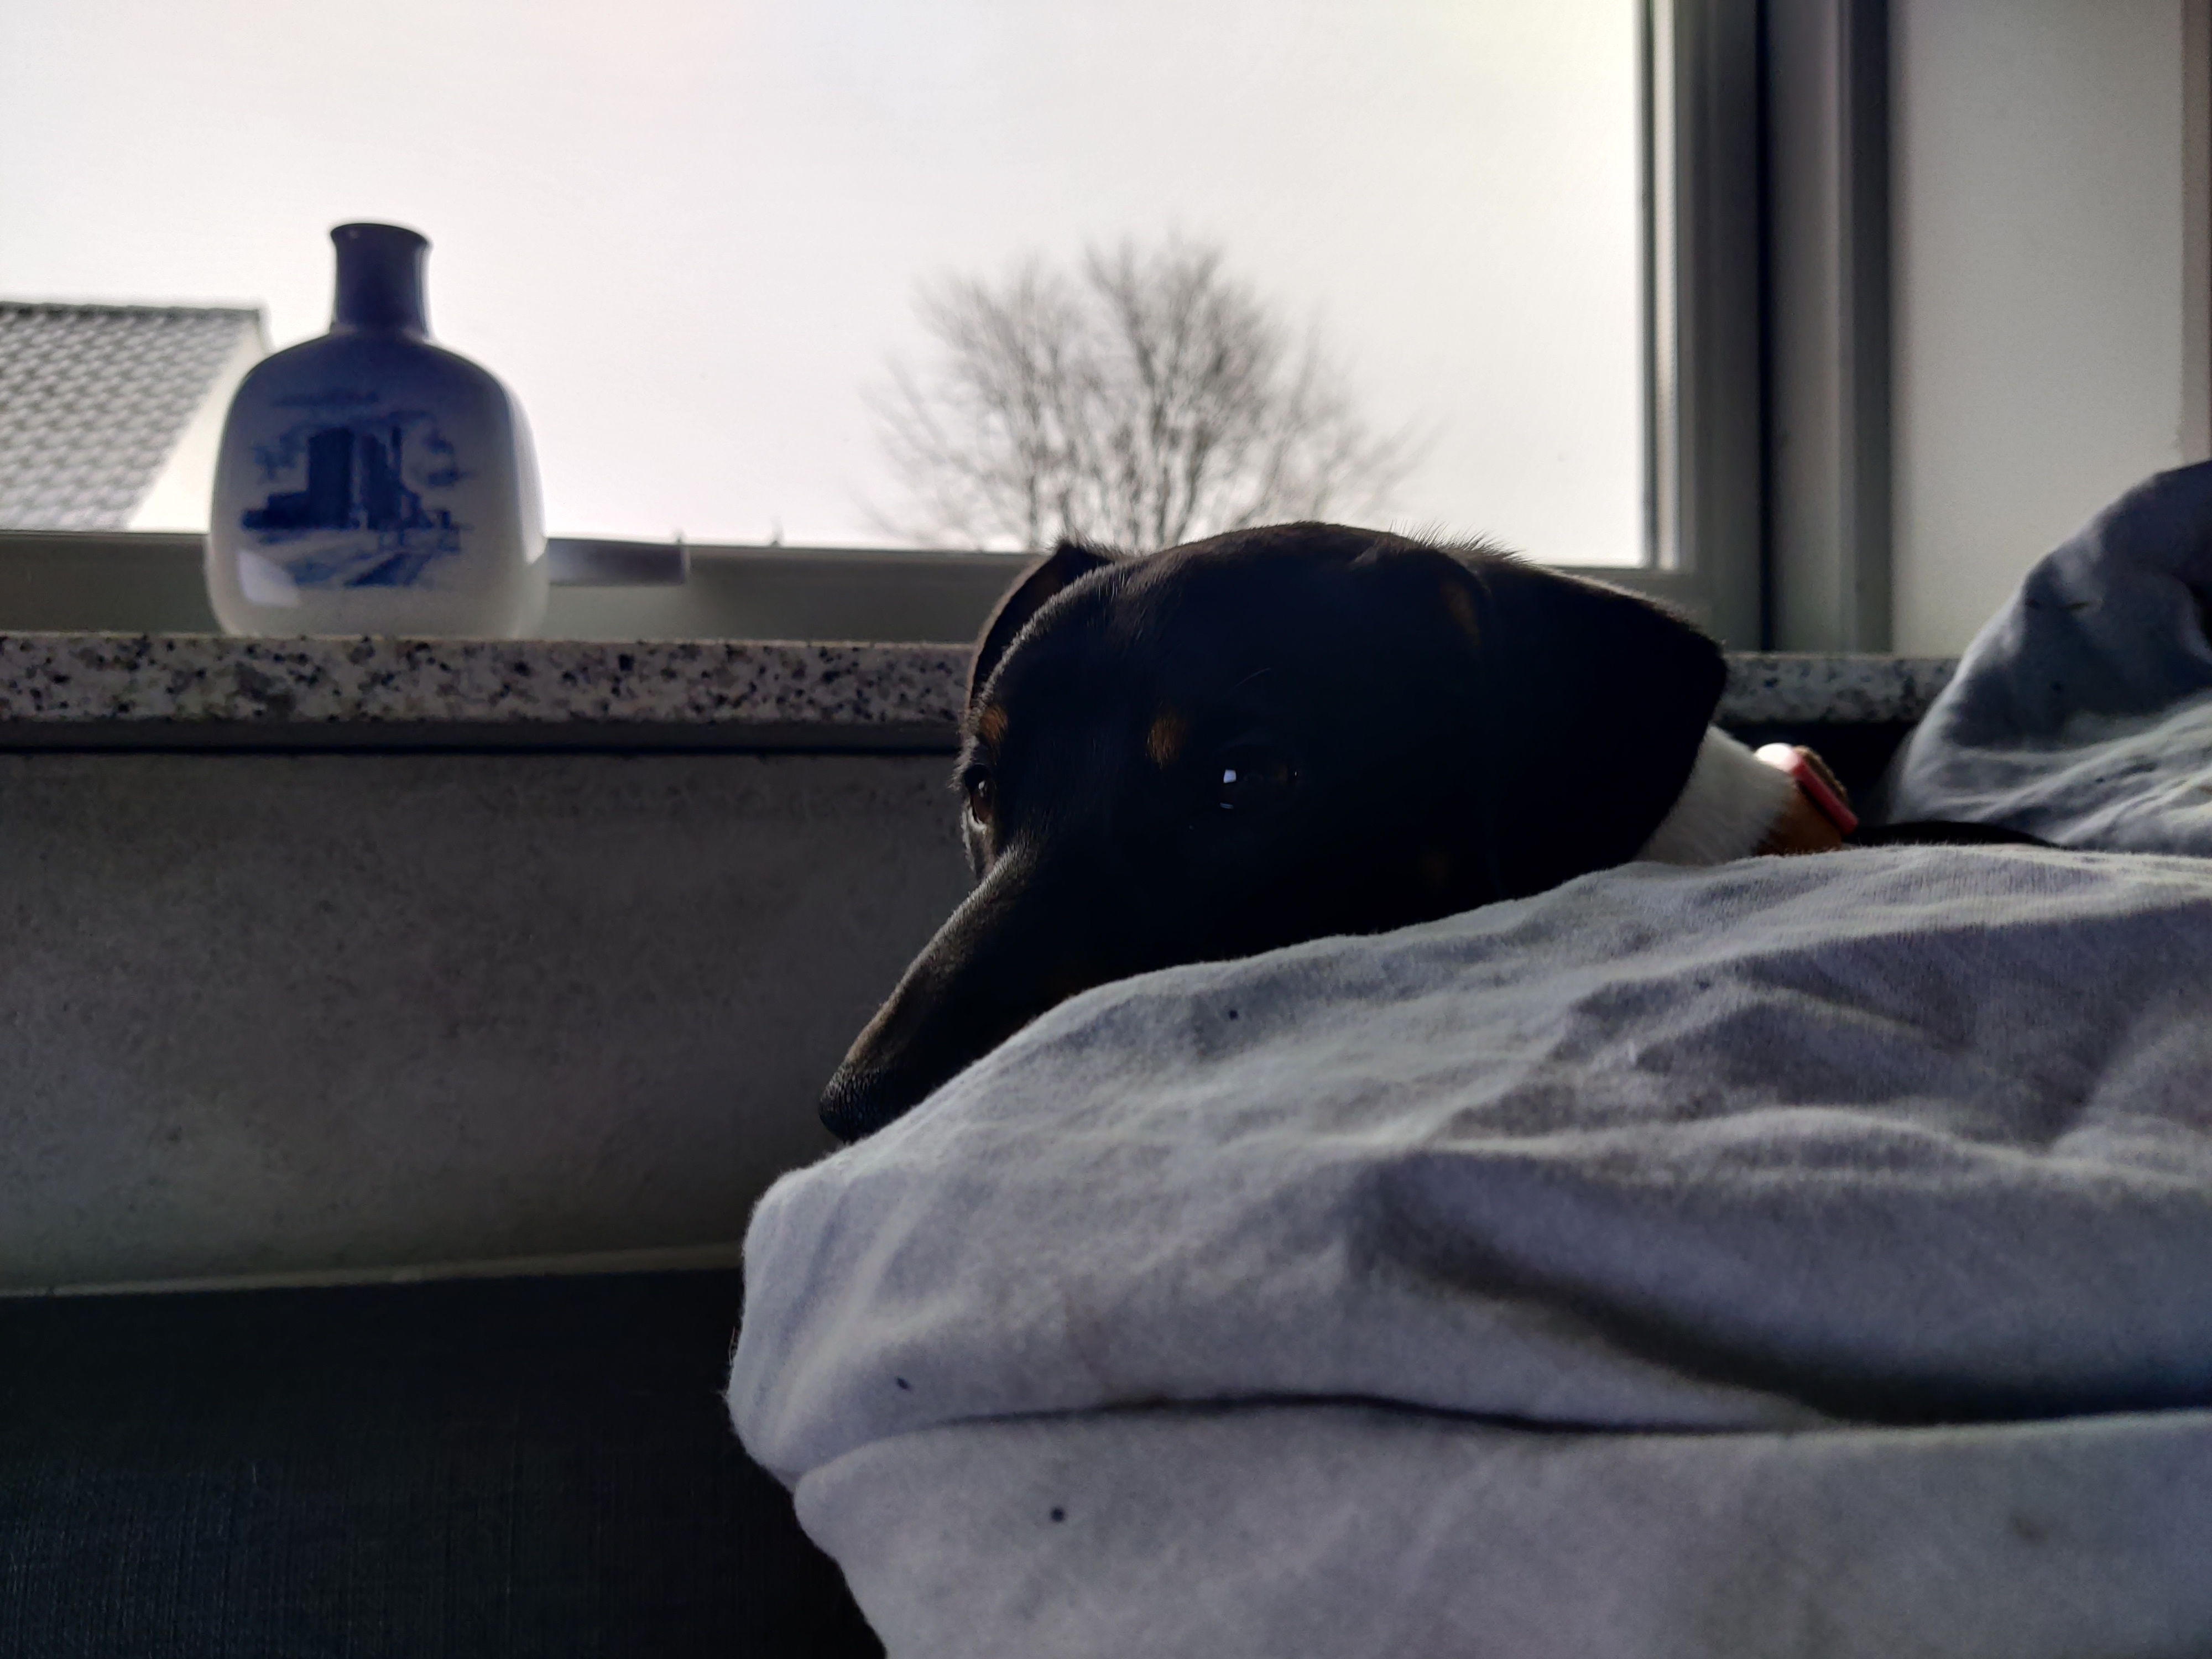Dog: (796, 509, 2078, 1194)
